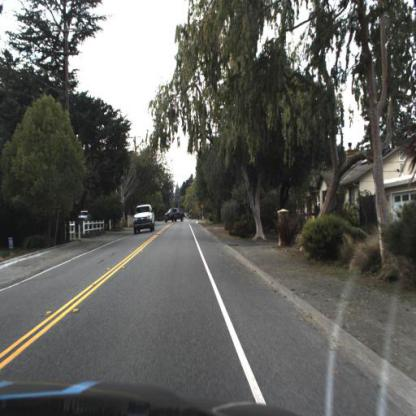car: (131, 195, 159, 244), (160, 204, 188, 225)
